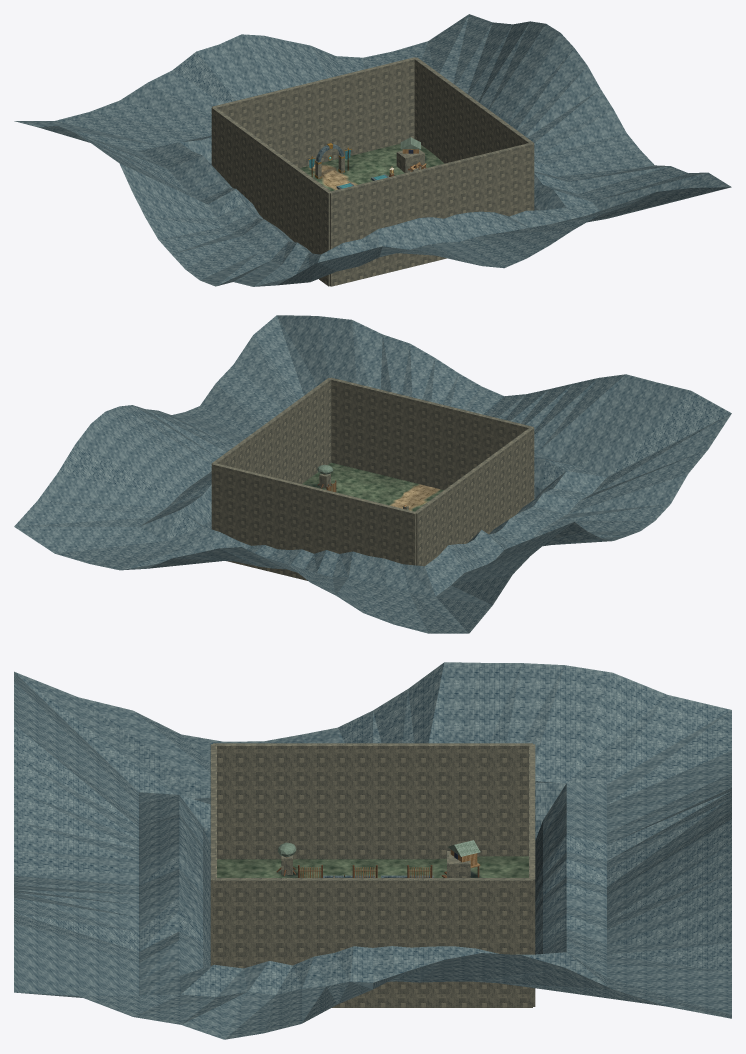
The model's file is Reedwater-5cd4caec39b7.glb.
3 views of the same model, one above another, from view 1: azimuth 30°, elevation 25°; view 2: azimuth 150°, elevation 25°; view 3: azimuth 270°, elevation 25° (orthographic). The views are drawn at different scales.
Parts seen in each view (by area): view 1: Rim, C_Solids, Terrain, Set; view 2: Rim, C_Solids, Terrain; view 3: Rim, C_Solids, Terrain, Set.
Boxes of the visible parts, box(x1,y1,x2,y2) form: Rim: box(14, 14, 731, 286); C_Solids: box(211, 57, 534, 286); Terrain: box(300, 143, 444, 191); Set: box(308, 137, 426, 189); Rim: box(14, 315, 731, 633); C_Solids: box(211, 377, 534, 580); Terrain: box(302, 462, 443, 511); Rim: box(14, 662, 731, 1039); C_Solids: box(210, 743, 535, 1007); Terrain: box(217, 856, 528, 877); Set: box(276, 840, 480, 877).
Bounding box in the file's own units: 92 × 19.51 × 92.
Materials: 13 (13 with a texture image).
